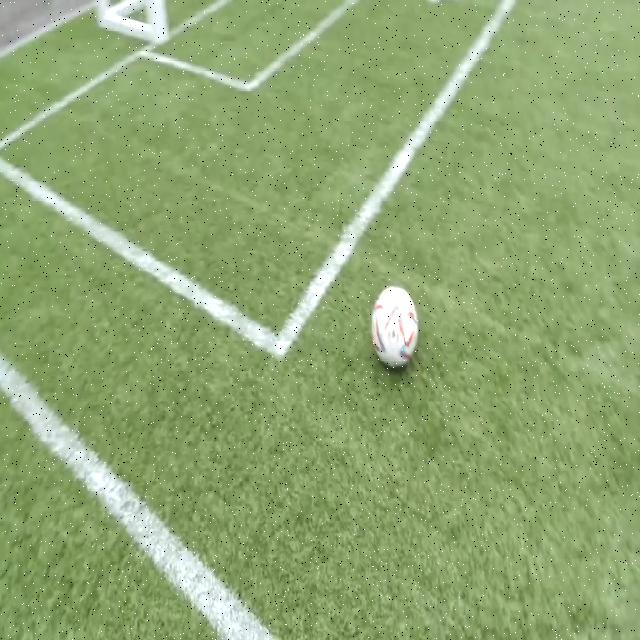ball: (372, 286, 418, 368)
goalpost: (135, 0, 179, 50)
